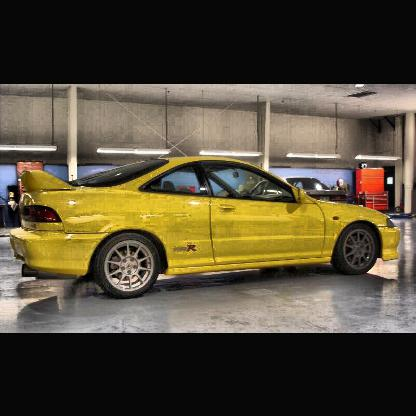Acura Integra Type R 2001: (9, 155, 403, 301)
